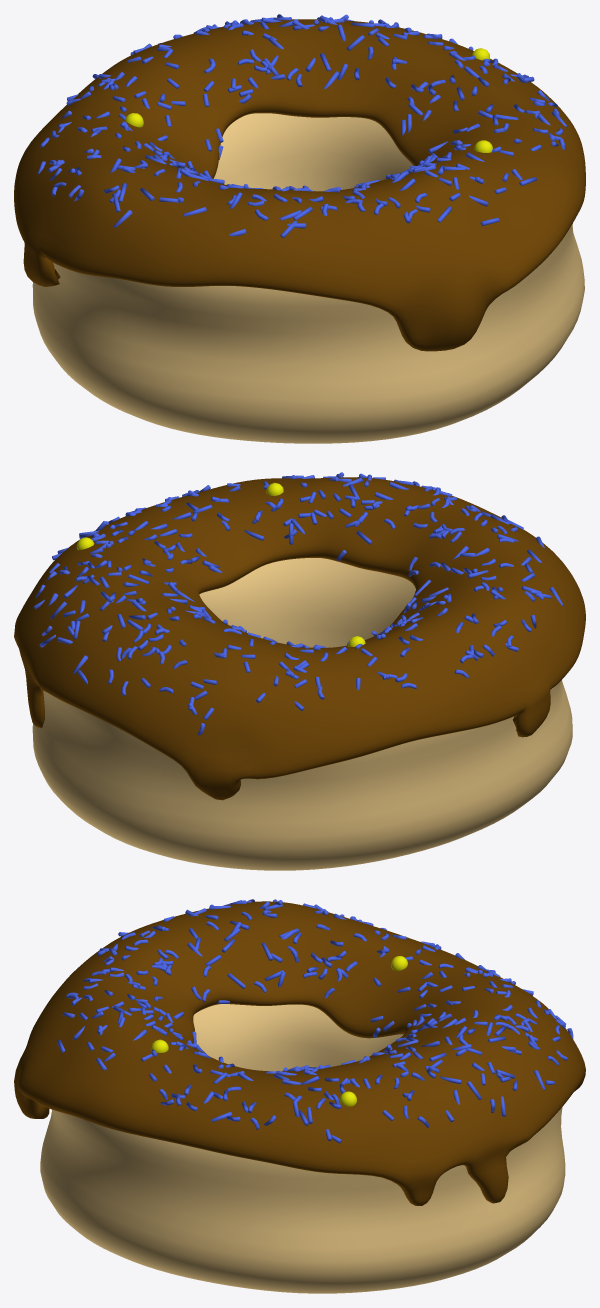
The model's file is Donut.fbx.
The picture shows the model from 3 angles, top to bottom: view 1: azimuth 30°, elevation 25°; view 2: azimuth 150°, elevation 25°; view 3: azimuth 270°, elevation 25°; orthographic projection. The views are drawn at different scales.
Parts seen in each view (by area): view 1: Icing, Donut; view 2: Icing, Donut; view 3: Icing, Donut.
Boxes of the visible parts, <box> form: Icing: <box>14,19,585,351</box>; Donut: <box>32,113,584,443</box>; Icing: <box>14,477,585,800</box>; Donut: <box>32,558,572,870</box>; Icing: <box>14,901,585,1205</box>; Donut: <box>40,1004,565,1293</box>.
Size of the model in its own units: 14.83 by 6.83 by 15.41.
